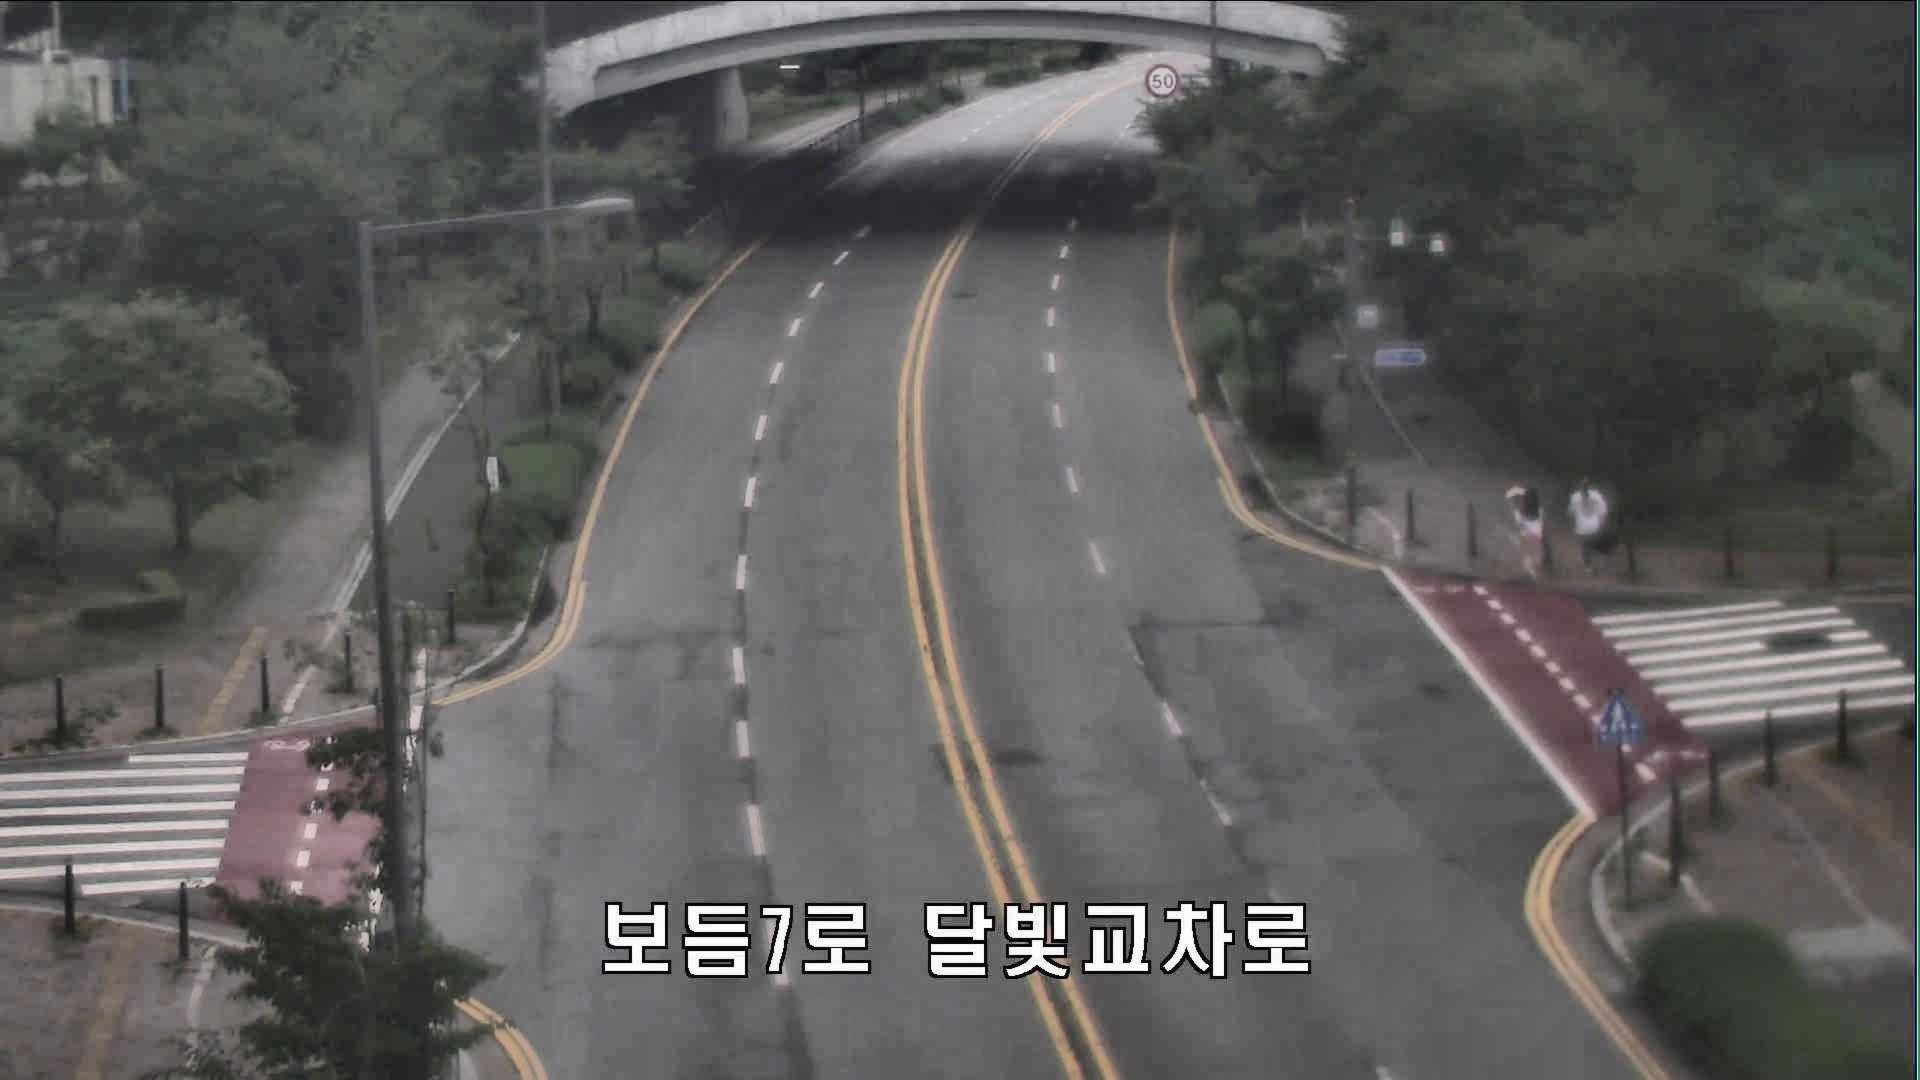sidewalk: (1568, 469, 1610, 572), (1510, 481, 1548, 583)
